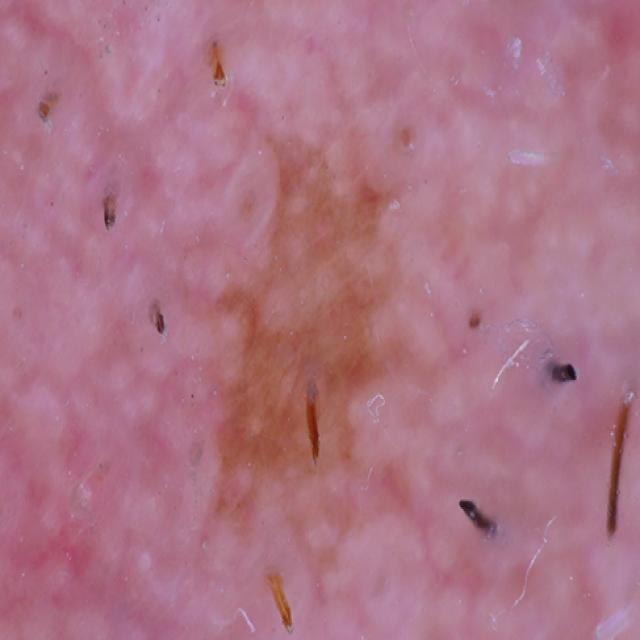Keratosis: (195, 84, 453, 531)
